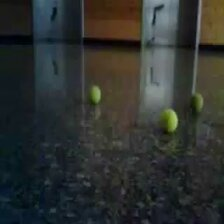tennis: (158, 108, 179, 134), (189, 93, 204, 115), (89, 85, 101, 105)
